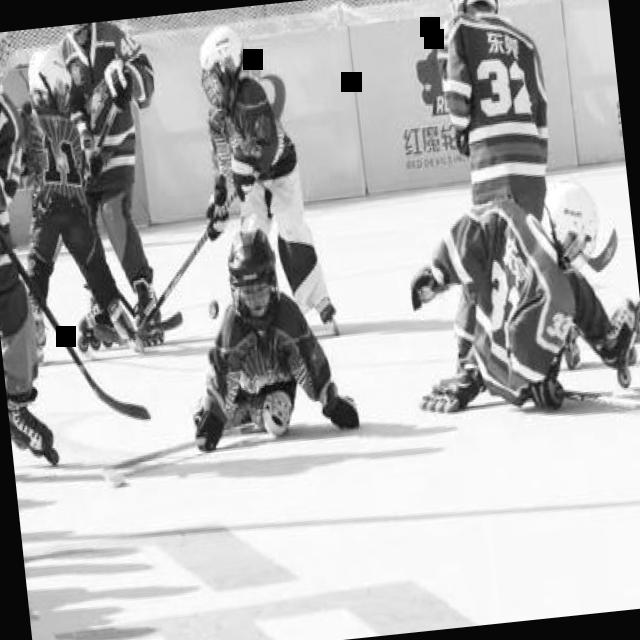Fall-Detected: (380, 158, 640, 435)
